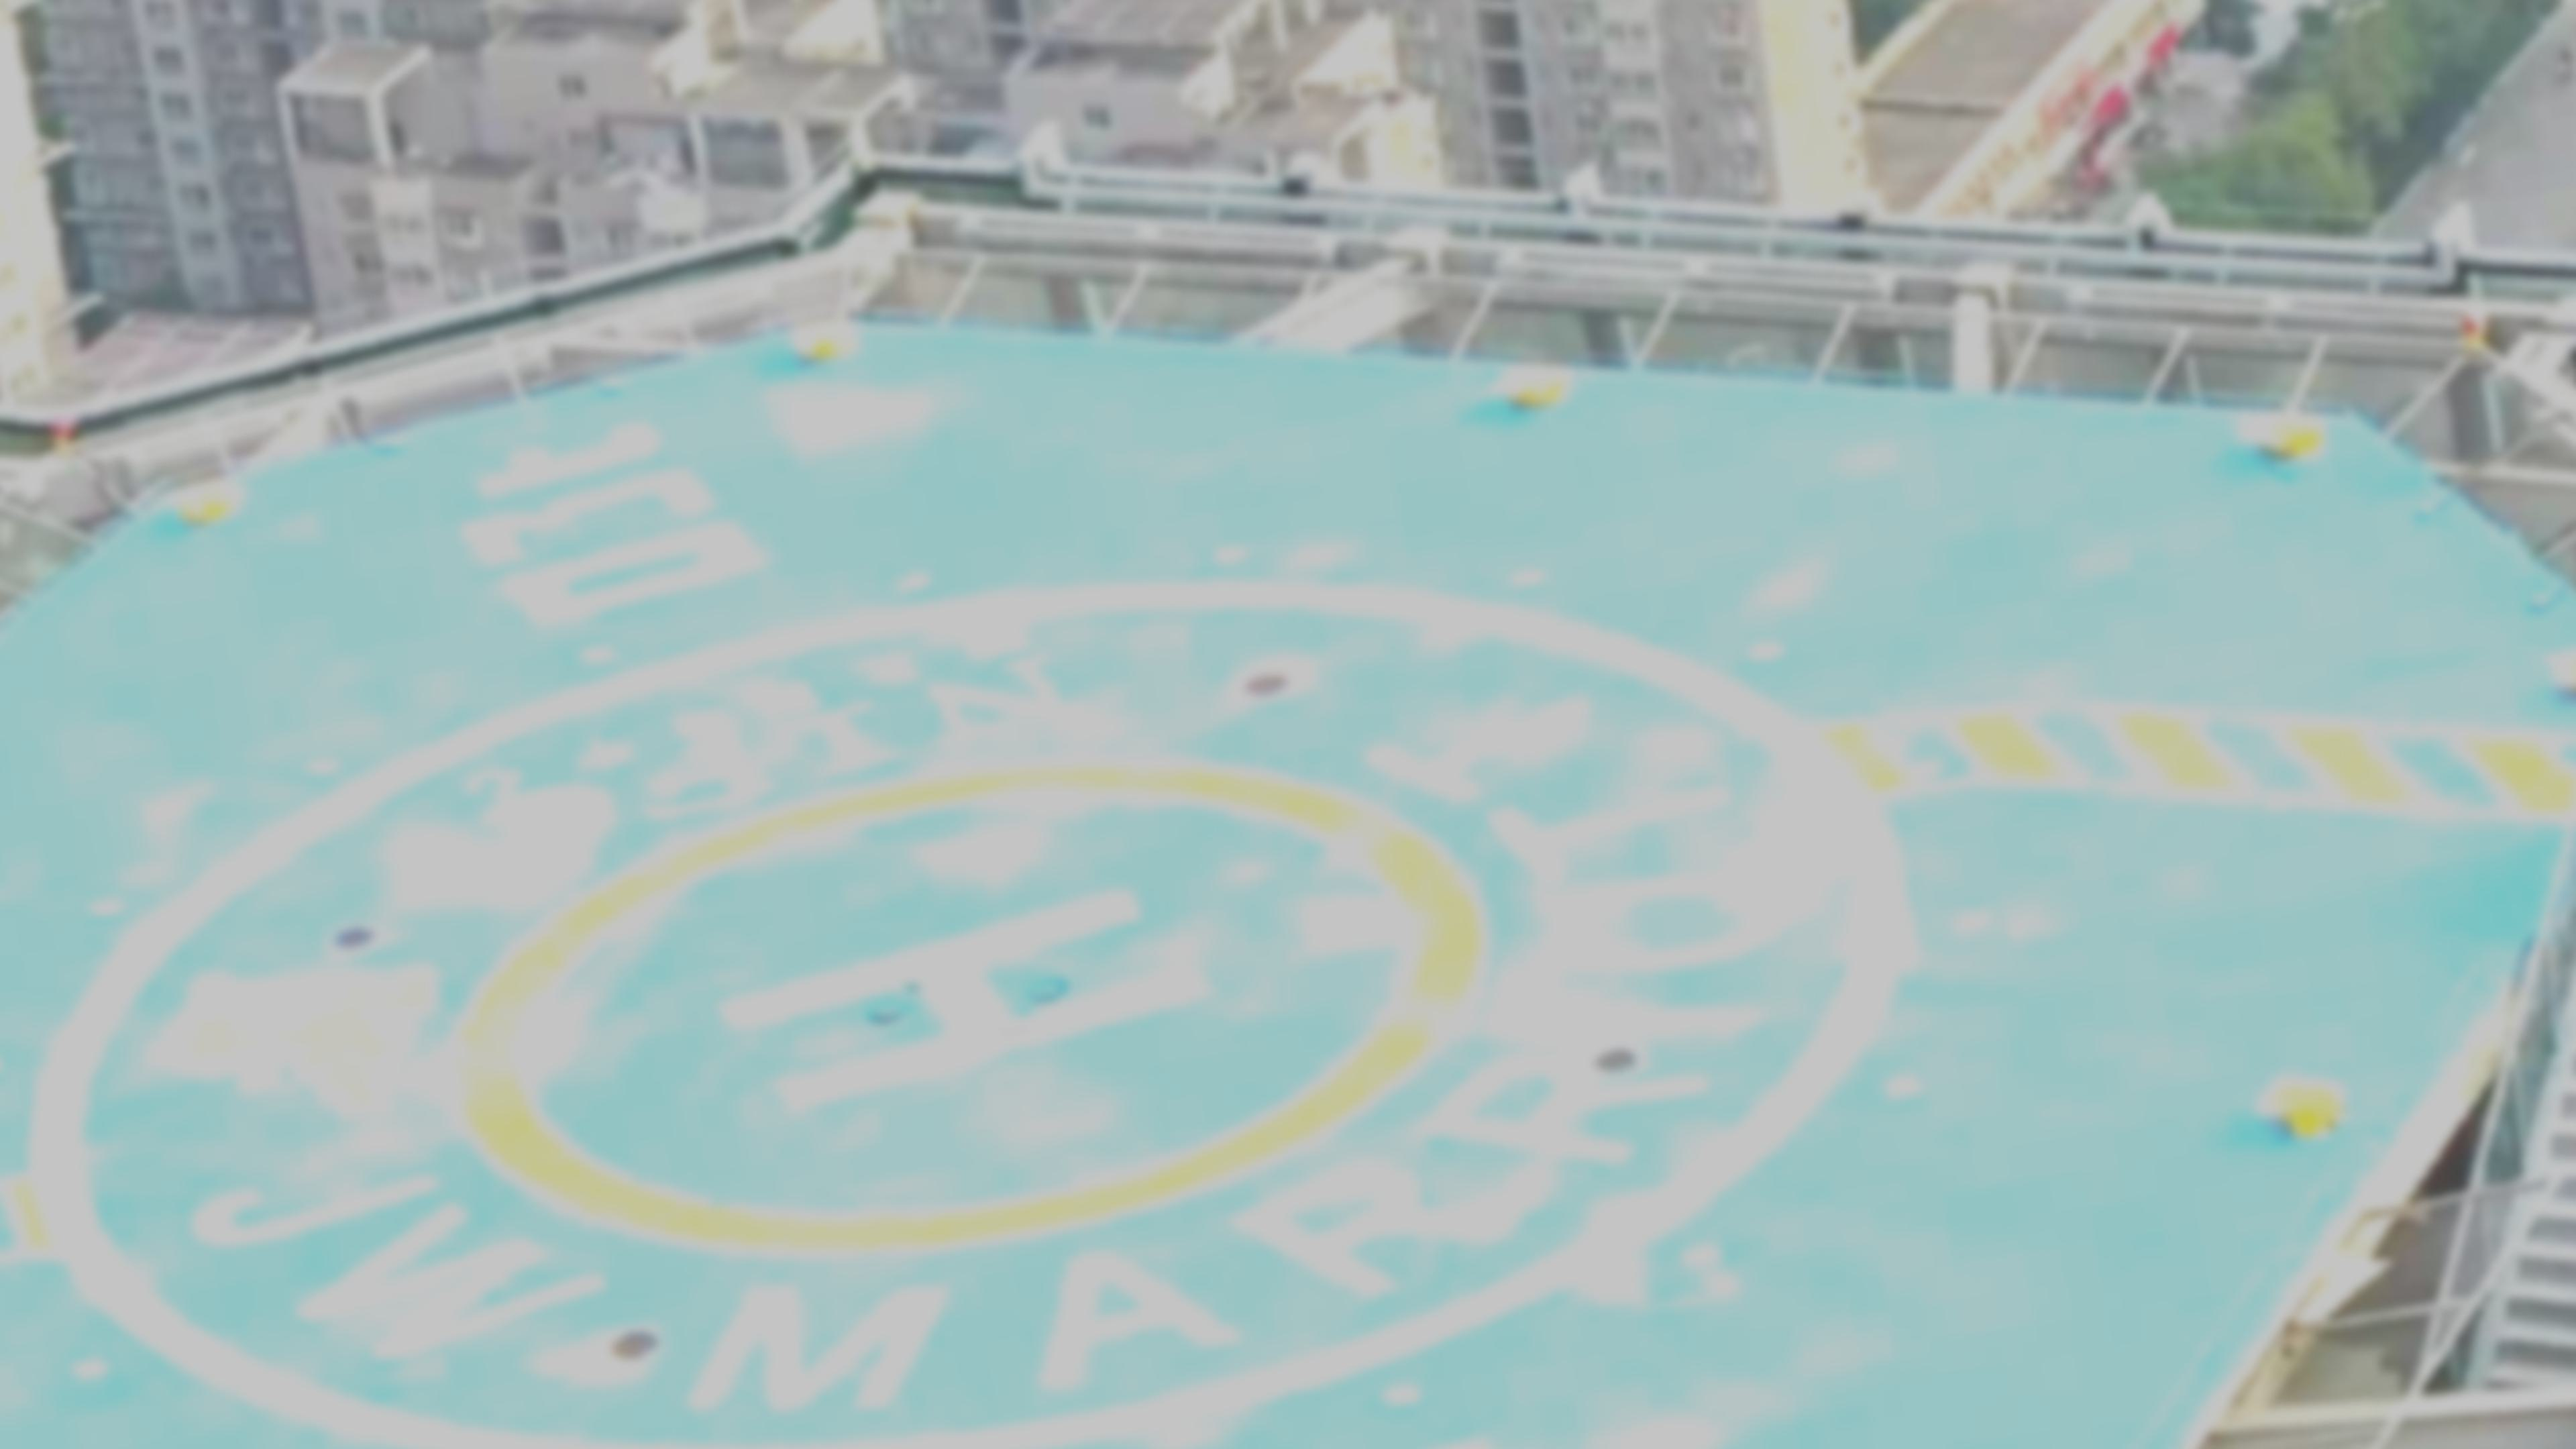Apron: (448, 736, 1500, 1274)
